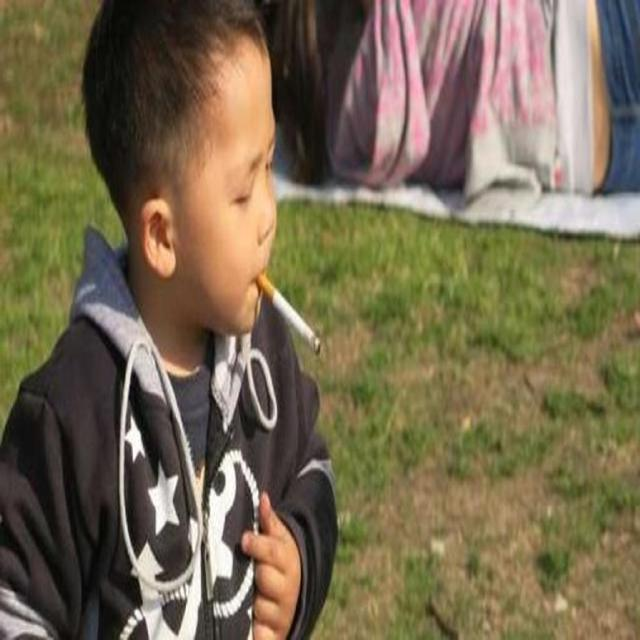smoking: (77, 1, 323, 358)
